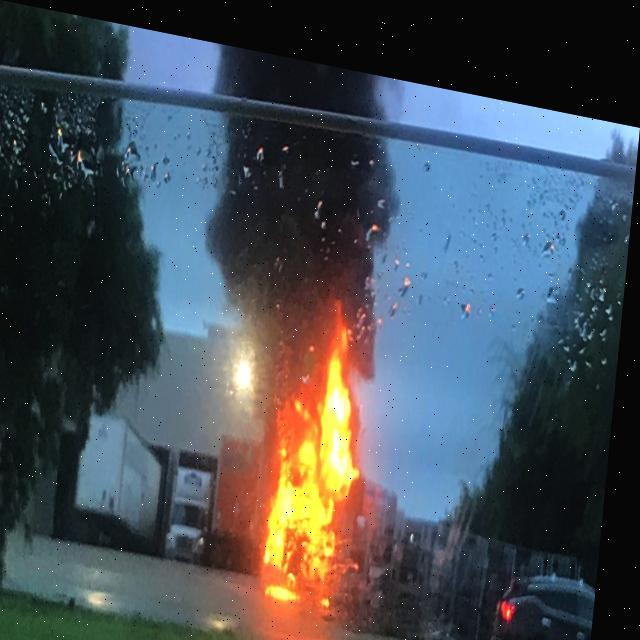Fire: (274, 324, 375, 592)
